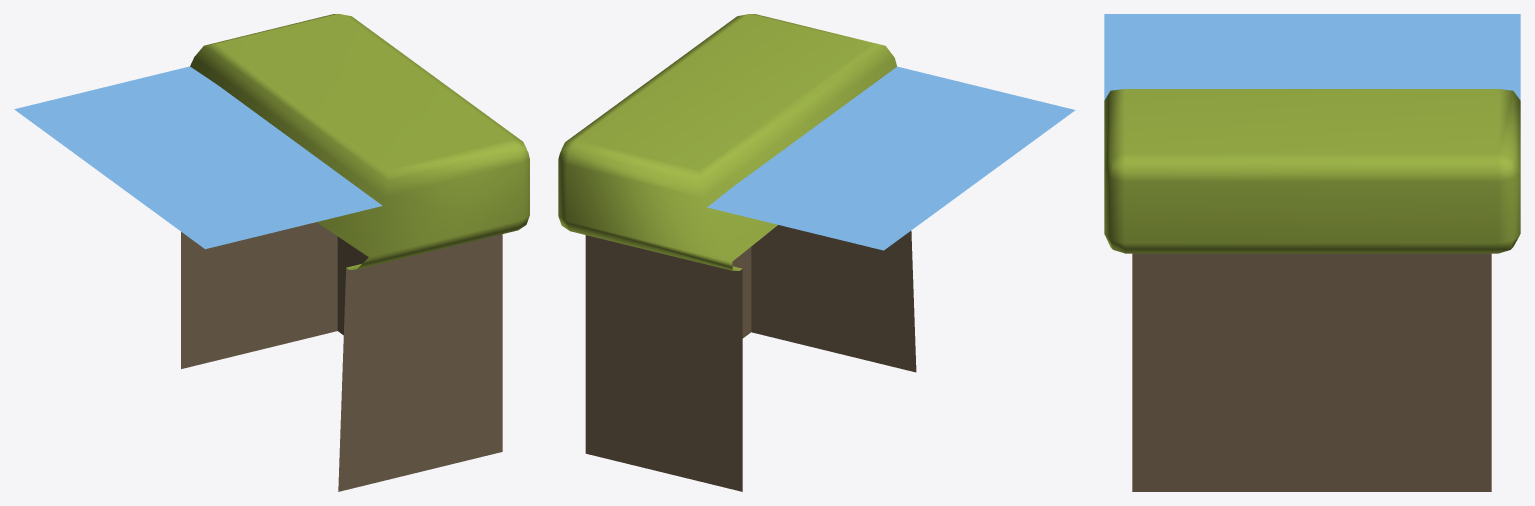
The model's file is Bloco_Rio_Reto.fbx.
The picture shows the model from 3 angles, left to right: view 1: azimuth 30°, elevation 25°; view 2: azimuth 150°, elevation 25°; view 3: azimuth 270°, elevation 25°; orthographic projection. The views are drawn at different scales.
Parts seen in each view (by area): view 1: Bloco_Rio_Reto; view 2: Bloco_Rio_Reto; view 3: Bloco_Rio_Reto.
Part boxes in pixels (<box>): Bloco_Rio_Reto: <box>14,14,529,491</box>; Bloco_Rio_Reto: <box>558,14,1075,491</box>; Bloco_Rio_Reto: <box>1104,14,1520,491</box>.
Bounding box in the file's own units: 240 × 216 × 239.
